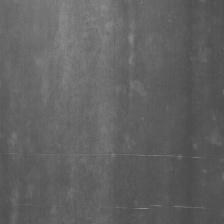waist_folding: (91, 120, 209, 221)
